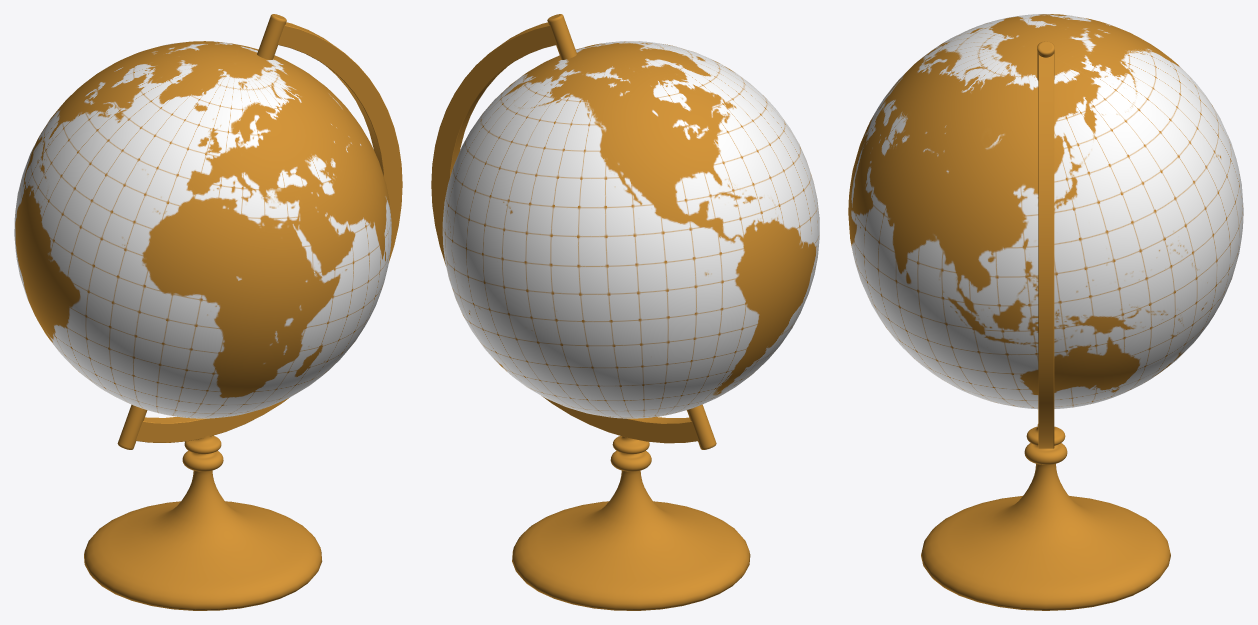
The model's file is golden_globe_decoration.glb.
3 renders of one model, left to right at view 1: azimuth 30°, elevation 25°; view 2: azimuth 150°, elevation 25°; view 3: azimuth 270°, elevation 25°, orthographic. The views are drawn at different scales.
Visible parts, largest first — view 1: Globe_2_0, Globe_2, Globe_3_3, Globe_1_1; view 2: Globe_2_0, Globe_2, Globe_3_3, Globe_1_1; view 3: Globe_2_0, Globe_2, Globe_3_3.
Part boxes in pixels (bbox=[...]): Globe_2_0: bbox=[14, 41, 391, 418]; Globe_2: bbox=[84, 435, 322, 610]; Globe_3_3: bbox=[136, 22, 402, 442]; Globe_1_1: bbox=[117, 14, 286, 449]; Globe_2_0: bbox=[442, 41, 819, 418]; Globe_2: bbox=[512, 436, 750, 610]; Globe_3_3: bbox=[431, 22, 698, 443]; Globe_1_1: bbox=[547, 14, 716, 449]; Globe_2_0: bbox=[848, 14, 1243, 409]; Globe_2: bbox=[921, 424, 1170, 610]; Globe_3_3: bbox=[1038, 54, 1054, 448].
Size of the model in its own units: 2.2 by 3.12 by 2.
1 material, 1 textured.
